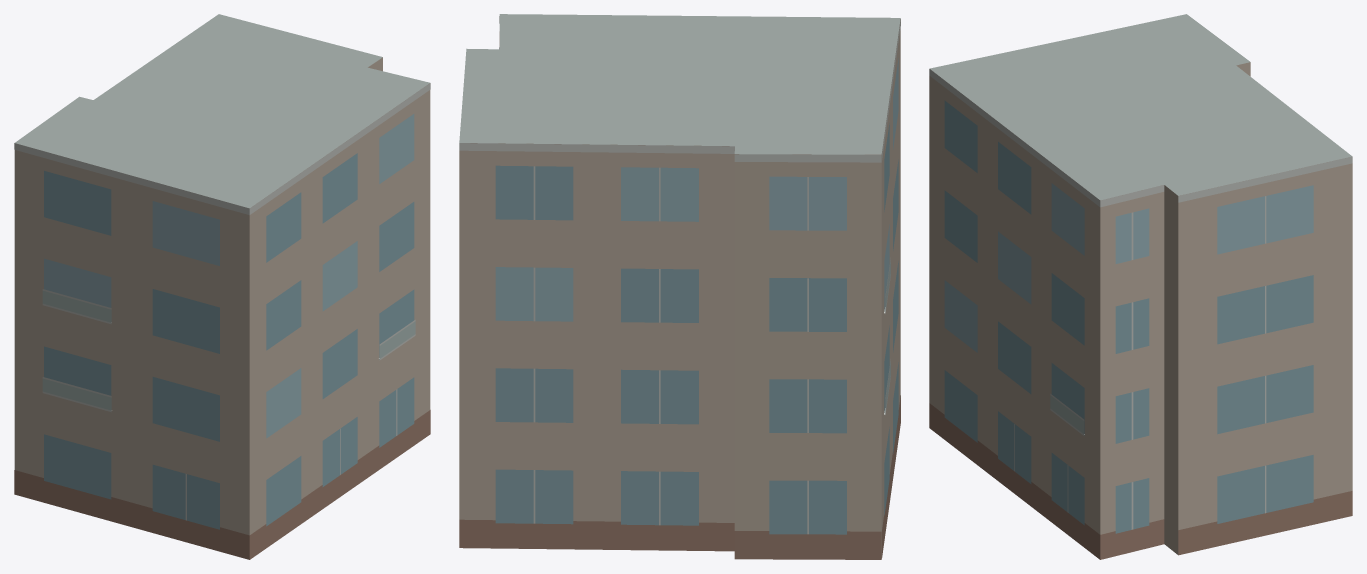
Rendered from survey-upis-32928041.glb.
3 renders of one model, left to right at view 1: azimuth 30°, elevation 25°; view 2: azimuth 150°, elevation 25°; view 3: azimuth 270°, elevation 25°, orthographic. The views are drawn at different scales.
Parts seen in each view (by area): view 1: survey-upis-32928041.tmp; view 2: survey-upis-32928041.tmp; view 3: survey-upis-32928041.tmp.
Part boxes in pixels (bbox=[...]): survey-upis-32928041.tmp: bbox=[14, 14, 430, 559]; survey-upis-32928041.tmp: bbox=[459, 14, 900, 559]; survey-upis-32928041.tmp: bbox=[929, 14, 1352, 559].
Size of the model in its own units: 14.08 by 12.65 by 13.51.
